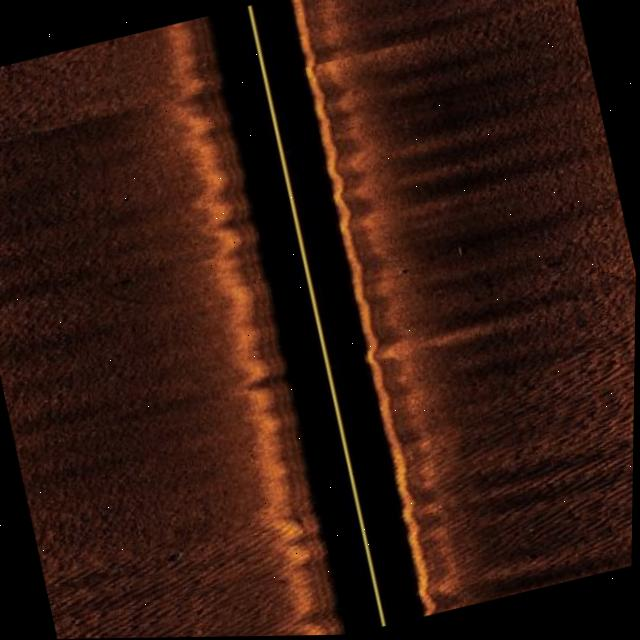mine: (452, 242, 472, 259), (165, 550, 186, 565)
